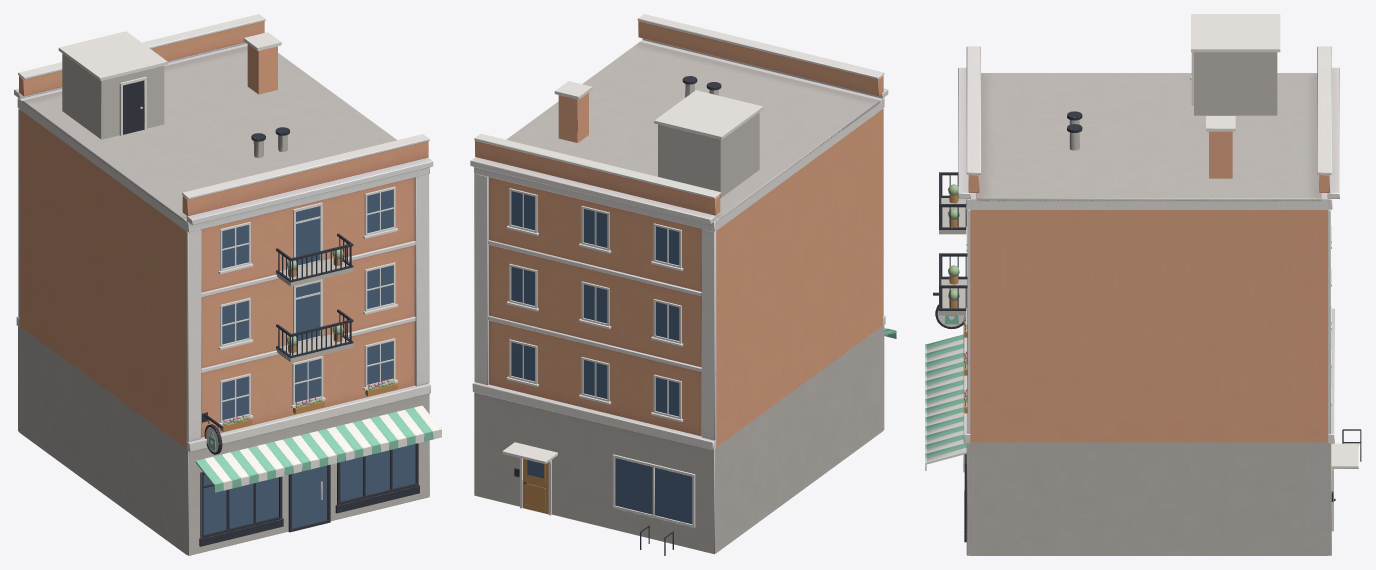
Rendered from city-block-filler-light.glb.
The picture shows the model from 3 angles, left to right: view 1: azimuth 30°, elevation 25°; view 2: azimuth 150°, elevation 25°; view 3: azimuth 270°, elevation 25°; orthographic projection. The views are drawn at different scales.
Parts seen in each view (by area): view 1: city-block-filler_body, city-block-filler_details, city-block-filler_windows; view 2: city-block-filler_body, city-block-filler_details, city-block-filler_windows; view 3: city-block-filler_body, city-block-filler_details.
Boxes of the visible parts, <box> form: city-block-filler_body: <box>14,14,433,555</box>; city-block-filler_details: <box>58,31,441,546</box>; city-block-filler_windows: <box>218,186,398,431</box>; city-block-filler_body: <box>470,14,888,554</box>; city-block-filler_details: <box>502,76,896,555</box>; city-block-filler_windows: <box>506,188,683,422</box>; city-block-filler_body: <box>958,46,1339,555</box>; city-block-filler_details: <box>925,14,1361,542</box>.
Size of the model in its own units: 10 by 15.72 by 14.63.
15 materials, 1 textured.
